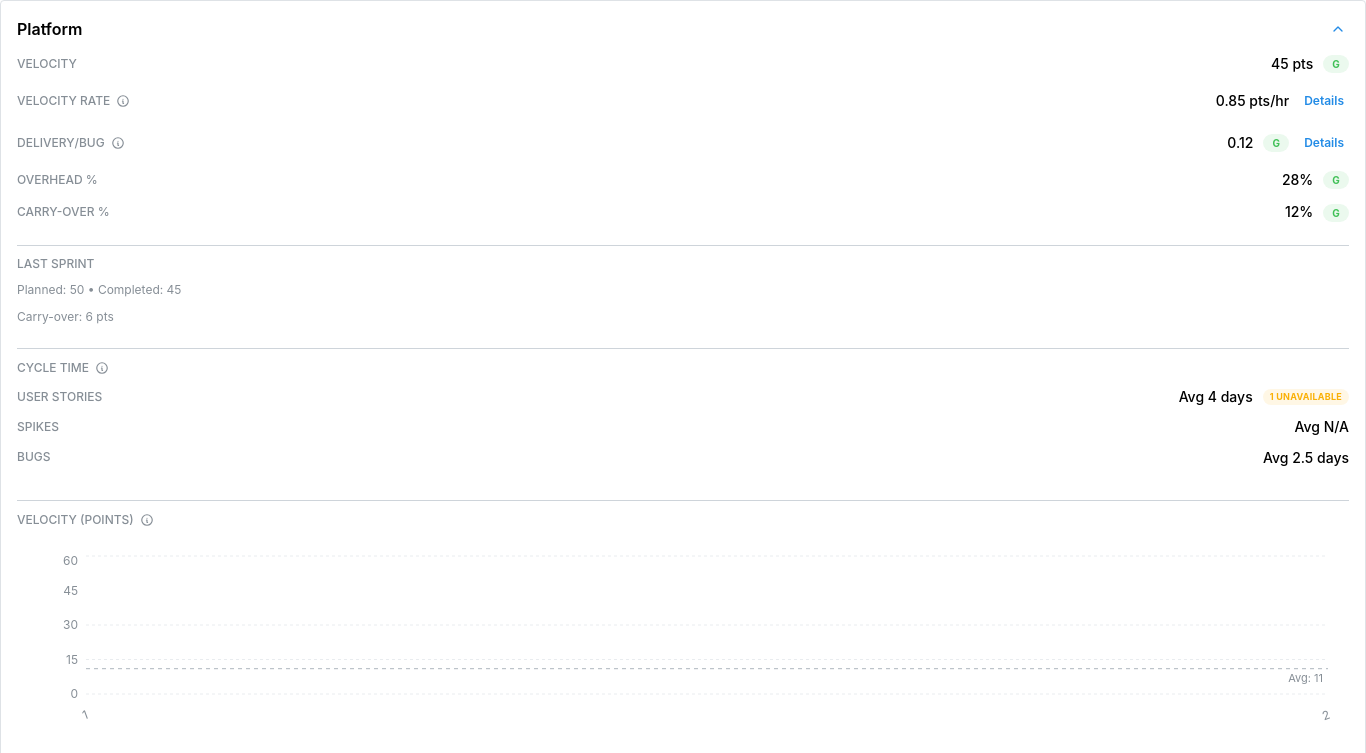
Scenario: WorkstreamHealthCard › collapses and expands card body while keeping the workstream summary visible
Click the button named "Collapse details for Platform": (1338, 29) [1327,18,1349,40]
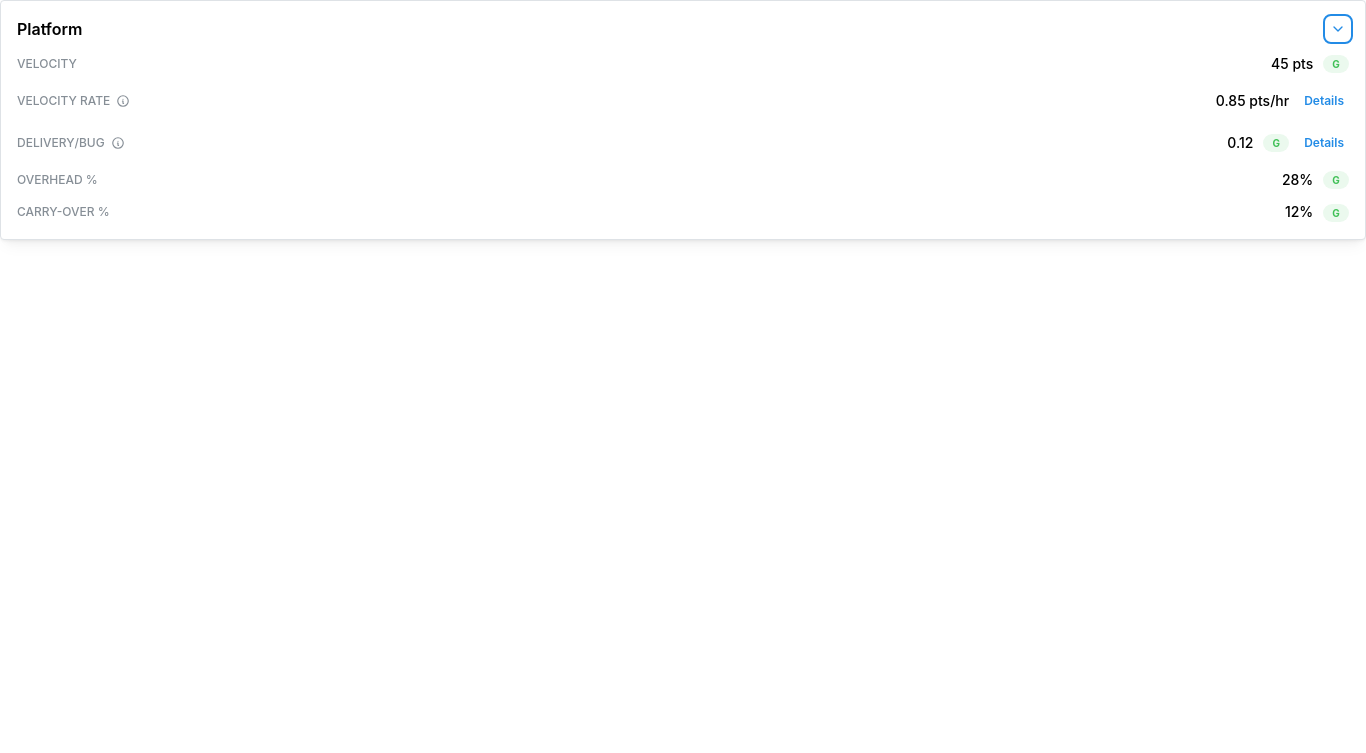
Now the text "Planned: 50" is gone
Now the text "Velocity (Points)" is gone
Now the button named "Expand details for Platform" is collapsed
Click the button named "Expand details for Platform": (1338, 29) [1327,18,1349,40]
(page scrolled)
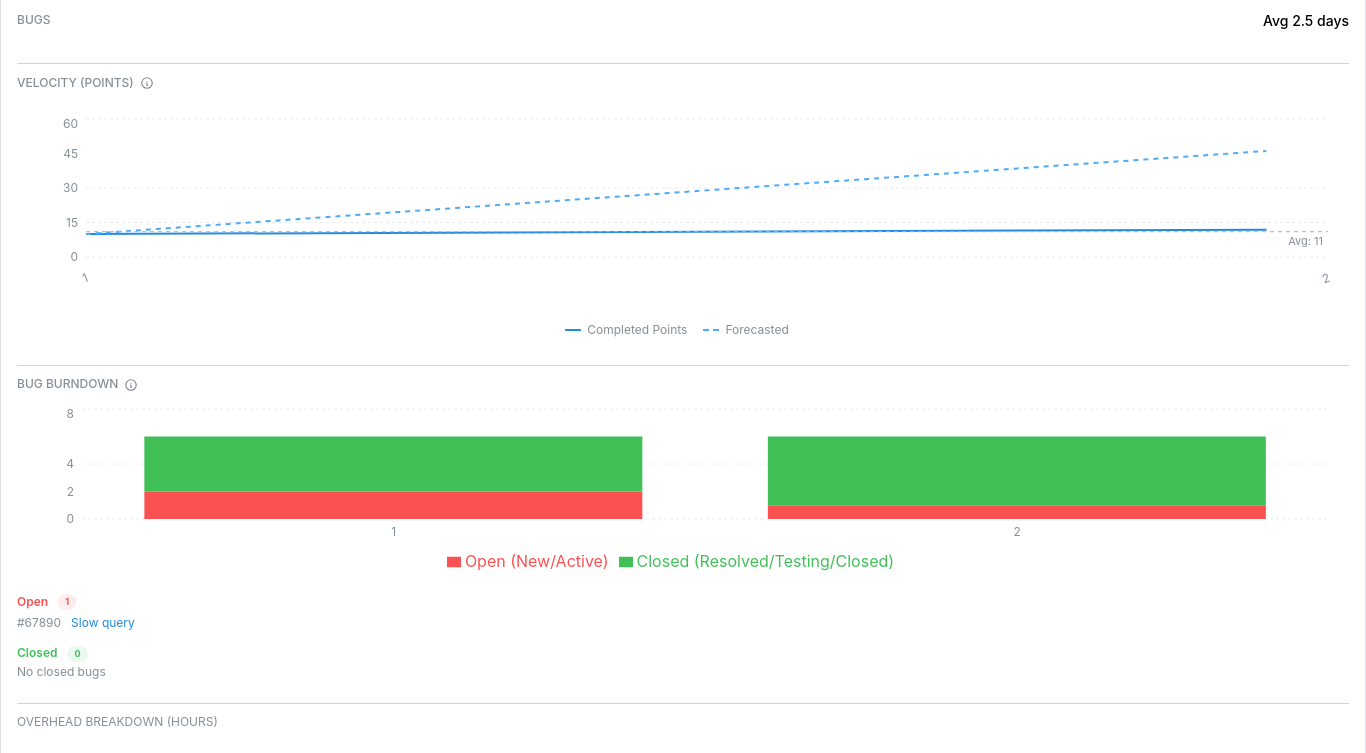
Now the text "Velocity (Points)" is shown, box [17,75,134,91]
Now the text "Bug Burndown" is shown, box [17,376,118,393]
